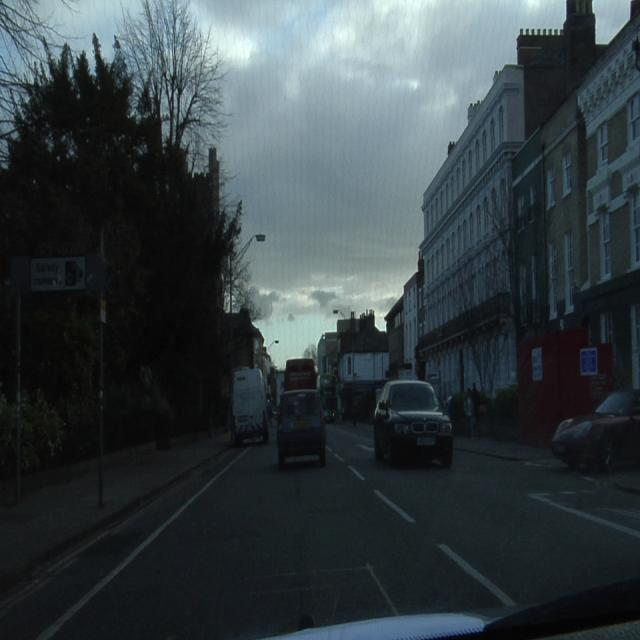Building: (419, 0, 638, 428), (336, 260, 424, 419)
Car: (552, 390, 639, 469), (375, 381, 452, 463), (278, 391, 326, 466)
Road: (0, 425, 639, 633)
Tree: (1, 0, 247, 411)
Truck_Bus: (233, 369, 268, 443)
